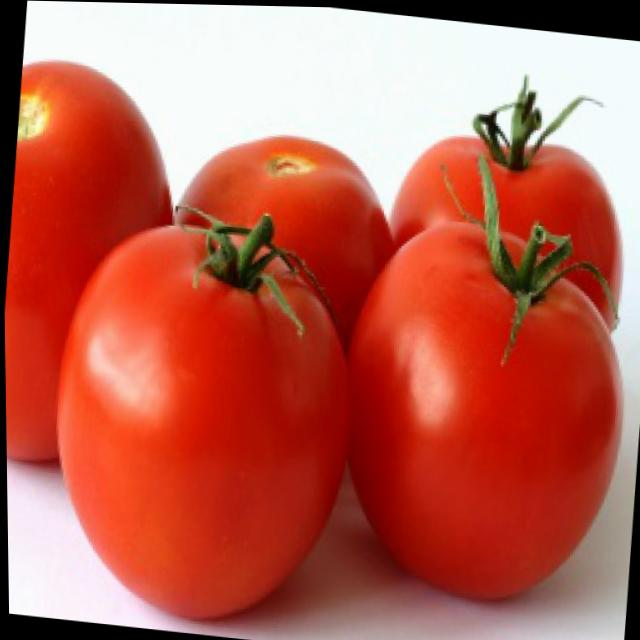tomato: (36, 196, 368, 630), (327, 206, 640, 609), (1, 55, 189, 478), (163, 122, 405, 351), (378, 125, 631, 329)
